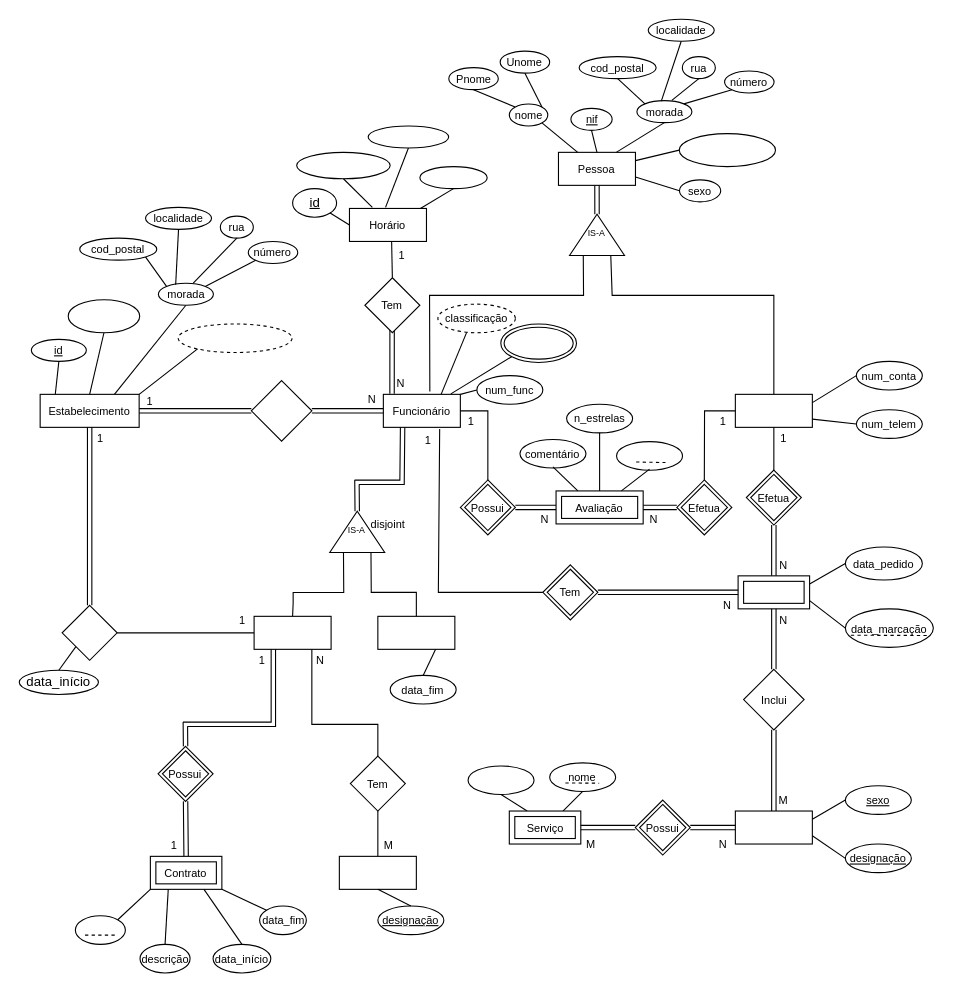
Image size: 953x992. Some labels were removed from this diagram. Each missing label, with the centre of its shape:
Cliente: point 773,410
data: point 649,455
data_nascimento: point 727,150
dia_folga: point 343,165
Efetivo: point 292,632
Especialidade: point 377,872
especificação: point 103,316
Estagiário: point 416,632
Gere: point 89,632
h_entrada: point 408,136
h_saída: point 453,177
Marcação: point 773,592
num_funcionarios: point 234,338
nums_telem: point 538,342
preço: point 500,780
salário: point 99,929
Tipo_serviço: point 773,827
Trabalha: point 281,410
